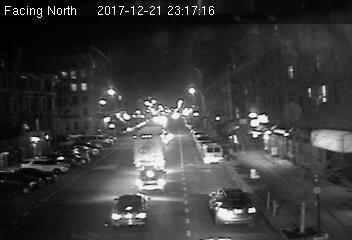car: (206, 186, 256, 224), (111, 194, 150, 229), (135, 165, 167, 191)
truck: (133, 124, 166, 165), (202, 142, 223, 164)
